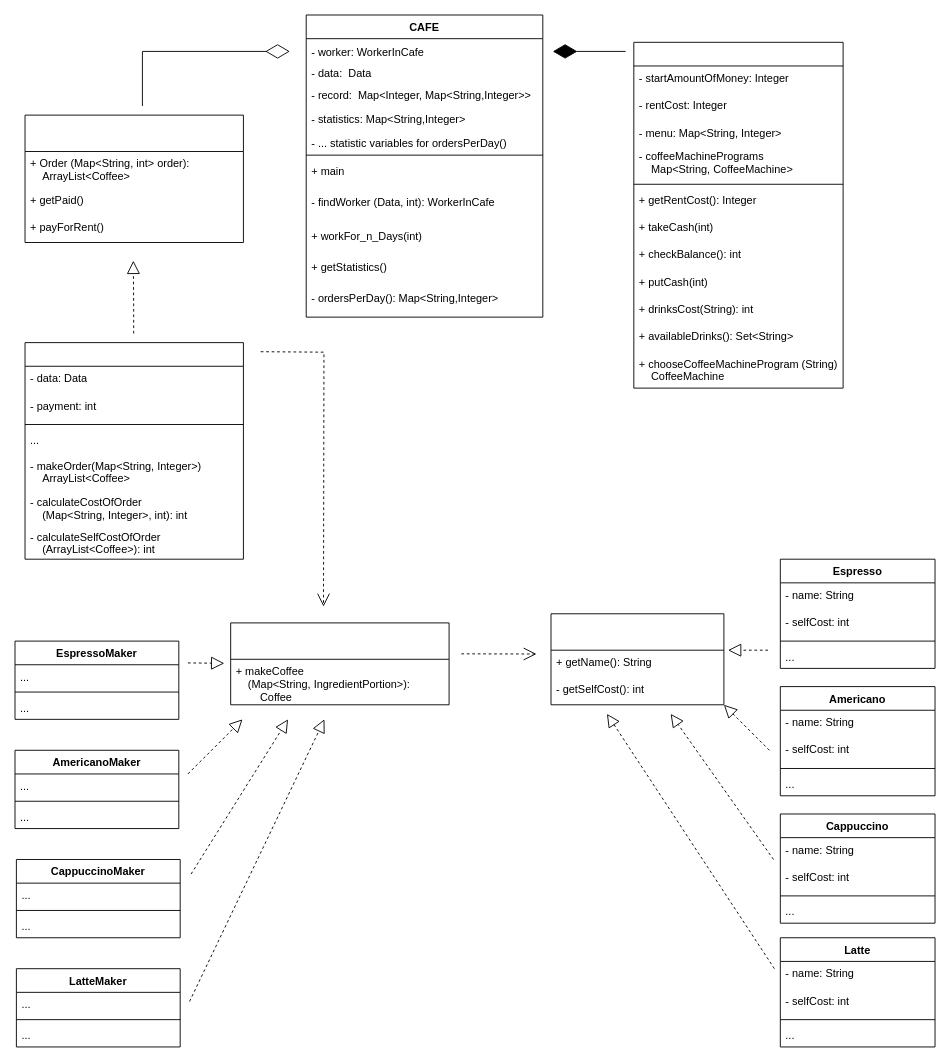
Image size: 950x1062. Some labels were removed from this diagram. Each missing label, with the box of its shape:
Data: (633, 41, 843, 388)
Worker: (24, 342, 243, 559)
«interface» Coffee: (550, 613, 724, 705)
«interface» CoffeeMachine: (230, 622, 449, 705)
«interface» IWorkerInCafe: (24, 114, 243, 243)
